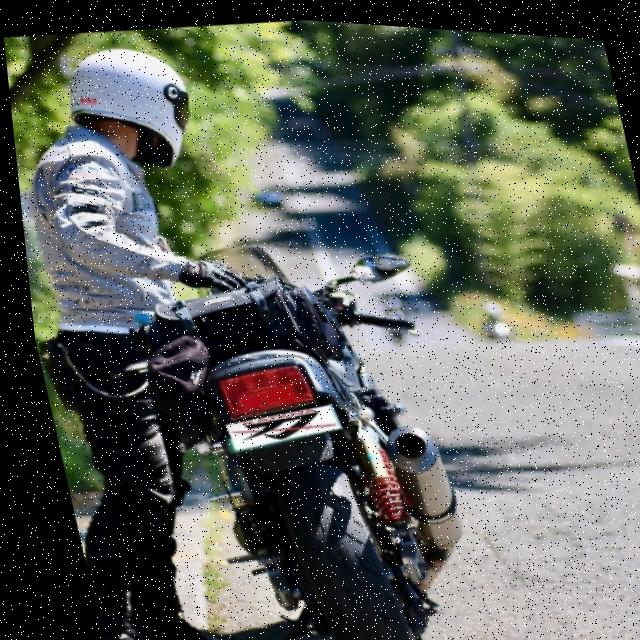helmet: (48, 32, 207, 184)
